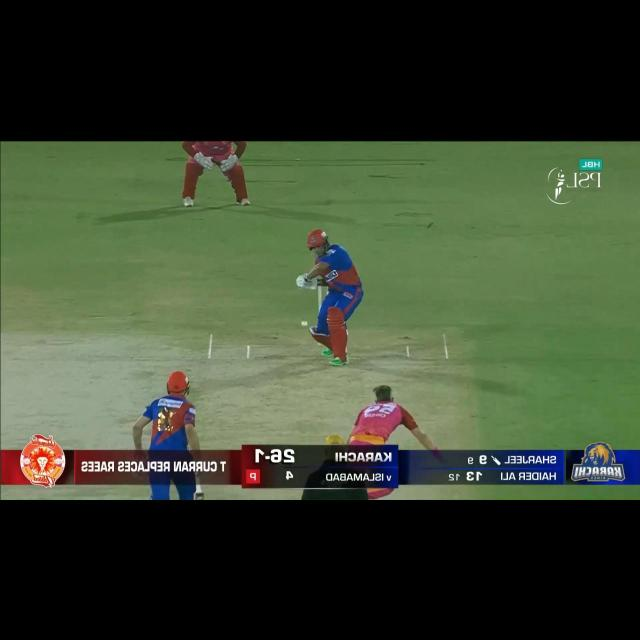bat: (306, 278, 324, 289), (192, 487, 204, 500)
